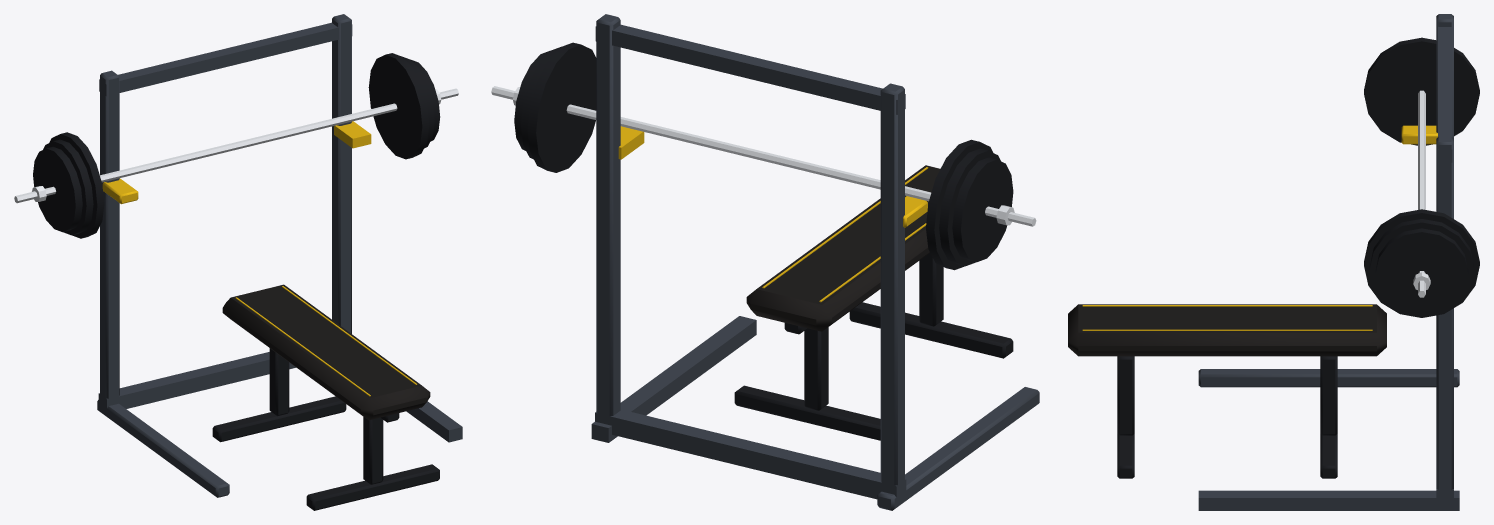
File: gym_weight_bench_and_rack.glb
3 renders of one model, left to right at view 1: azimuth 30°, elevation 25°; view 2: azimuth 150°, elevation 25°; view 3: azimuth 270°, elevation 25°, orthographic. The views are drawn at different scales.
Parts seen in each view (by area): view 1: gym_weight_bench_and_rack; view 2: gym_weight_bench_and_rack; view 3: gym_weight_bench_and_rack.
Boxes of the visible parts, left/top/right/bottom form: gym_weight_bench_and_rack: left=14, top=14, right=462, bottom=510; gym_weight_bench_and_rack: left=491, top=14, right=1039, bottom=510; gym_weight_bench_and_rack: left=1068, top=14, right=1479, bottom=510.
Bounding box in the file's own units: 1.9 × 1.4 × 1.42.
